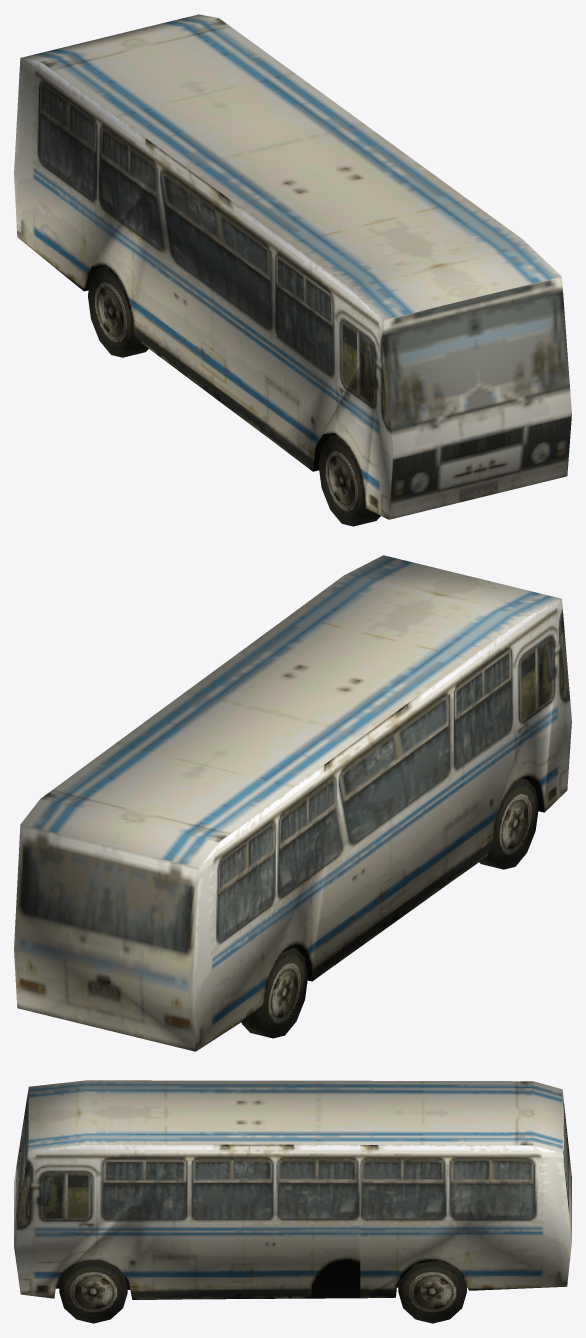
Rendered from BusLong.fbx.
The picture shows the model from 3 angles, top to bottom: view 1: azimuth 30°, elevation 25°; view 2: azimuth 150°, elevation 25°; view 3: azimuth 270°, elevation 25°; orthographic projection. The views are drawn at different scales.
Visible parts, largest first — view 1: Plane; view 2: Plane; view 3: Plane.
Part boxes in pixels (x1,y1,x2,y2): Plane: [14, 14, 571, 526]; Plane: [14, 555, 571, 1051]; Plane: [14, 1080, 571, 1323].
Bounding box in the file's own units: 140 × 514 × 183.
Materials: 2 (2 with a texture image).
